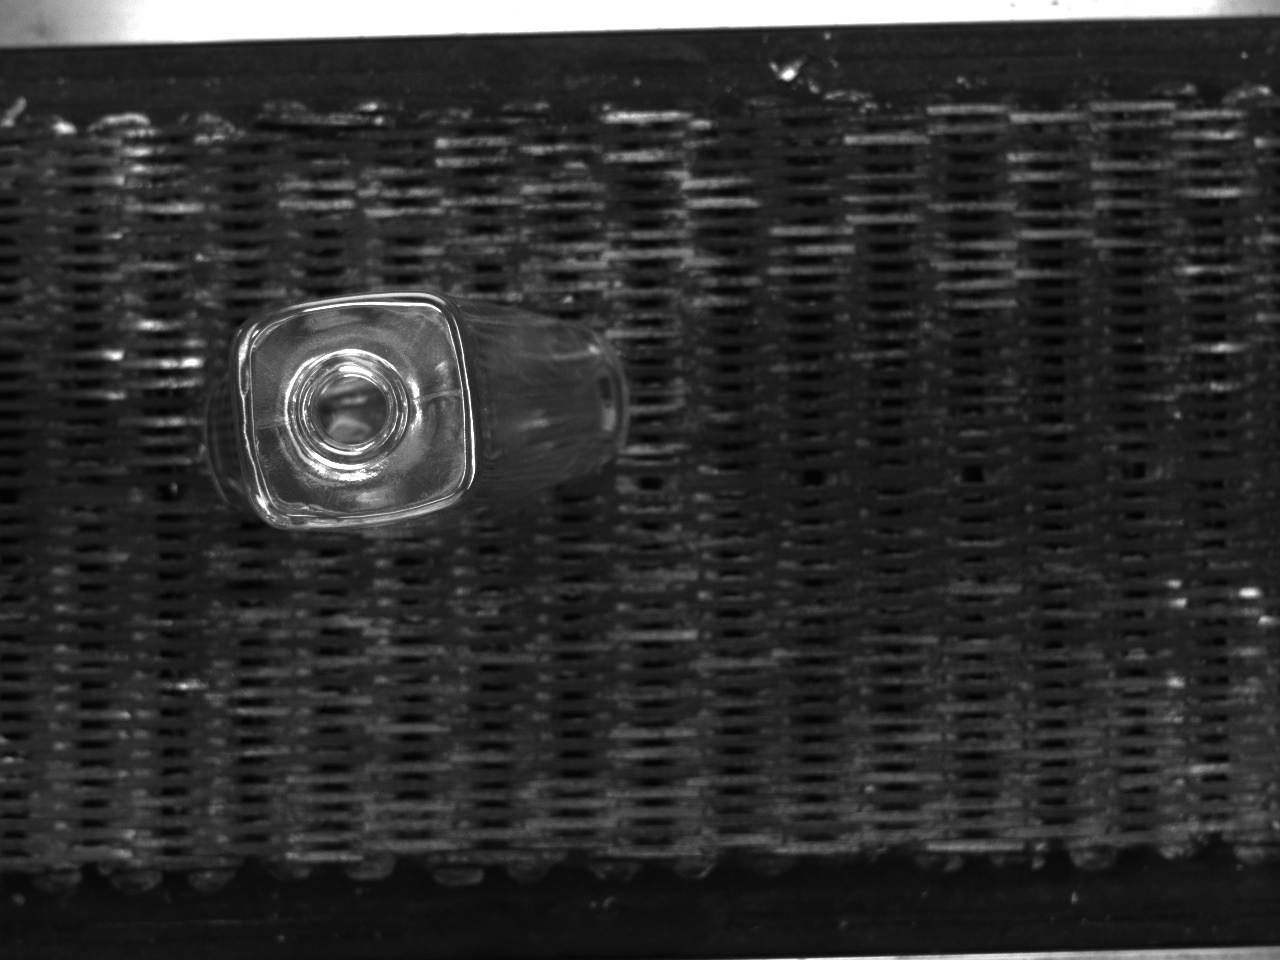bottleneck: (288, 350, 408, 469)
